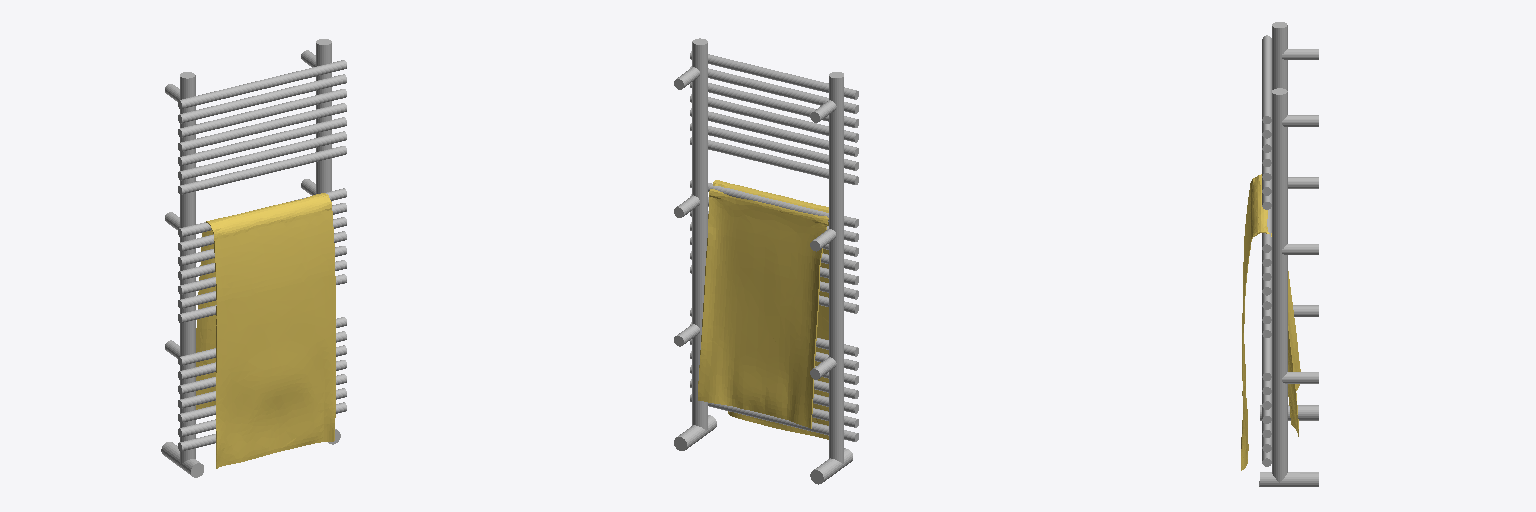
The model's file is bathroom_radiator.obj.
3 renders of one model, left to right at view 1: azimuth 30°, elevation 25°; view 2: azimuth 150°, elevation 25°; view 3: azimuth 270°, elevation 25°, orthographic.
Visible parts, largest first — view 1: polotence_polot, polotencesushitel'; view 2: polotencesushitel', polotence_polot; view 3: polotencesushitel', polotence_polot.
Boxes of the visible parts, box(x1,y1,x2,y2) form: polotence_polot: box(196, 193, 335, 468); polotencesushitel': box(161, 39, 346, 477); polotencesushitel': box(674, 38, 858, 484); polotence_polot: box(698, 180, 828, 439); polotencesushitel': box(1259, 22, 1318, 486); polotence_polot: box(1241, 174, 1300, 470).
Bounding box in the file's own units: 48.39 × 111 × 19.93.